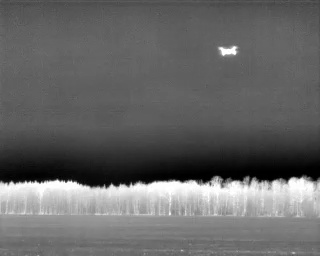DRONE: (215, 41, 243, 62)
